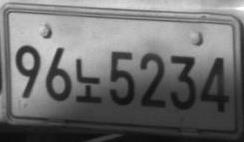2: (139, 51, 166, 108)
3: (170, 55, 197, 110)
4: (199, 57, 230, 112)
5: (108, 50, 136, 106)
6: (44, 47, 72, 101)
9: (14, 44, 41, 98)
노: (74, 57, 102, 103)
